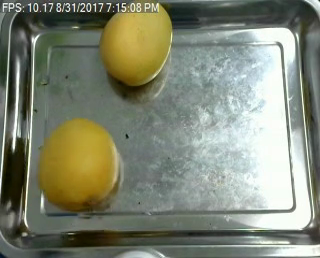Mango: (40, 117, 122, 214), (101, 3, 174, 88)
